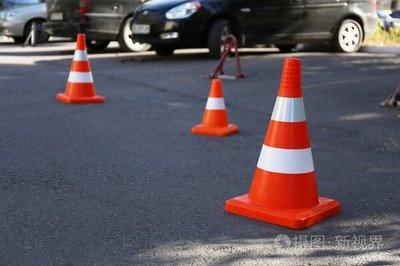cone_barrel: (238, 58, 329, 222), (56, 32, 103, 103), (191, 76, 236, 136)
